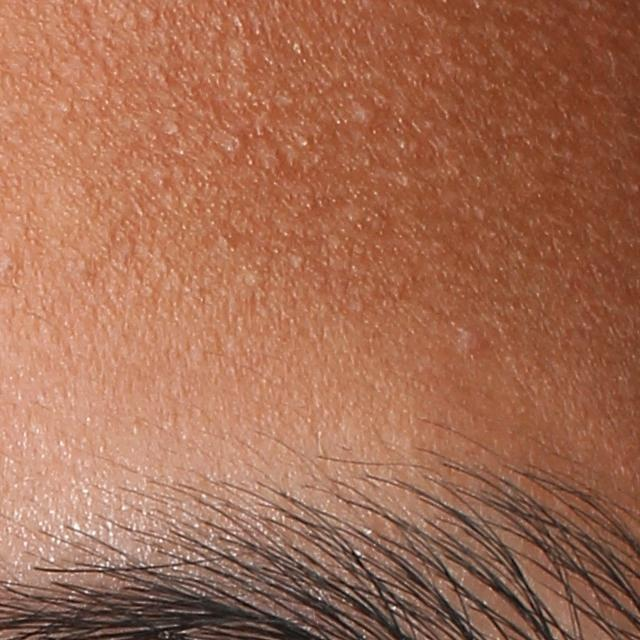comedo: (352, 98, 377, 126), (284, 250, 308, 272), (1, 258, 20, 277)
